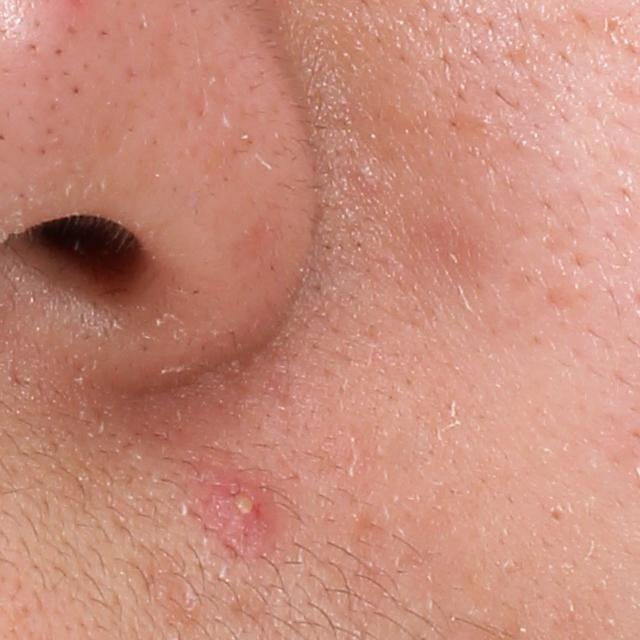comedo: (549, 504, 566, 521)
pustule: (223, 485, 260, 519)
